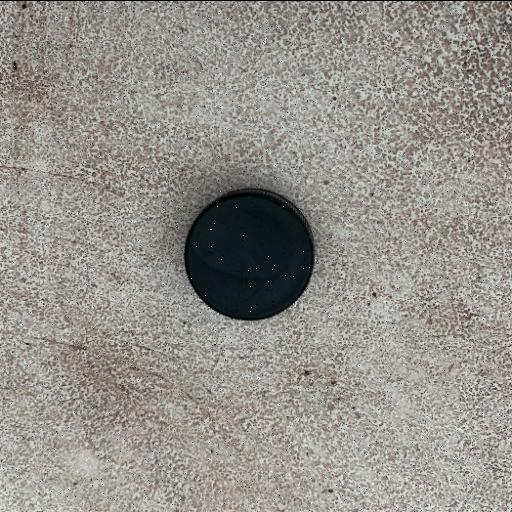Plastic: (180, 186, 316, 324)
